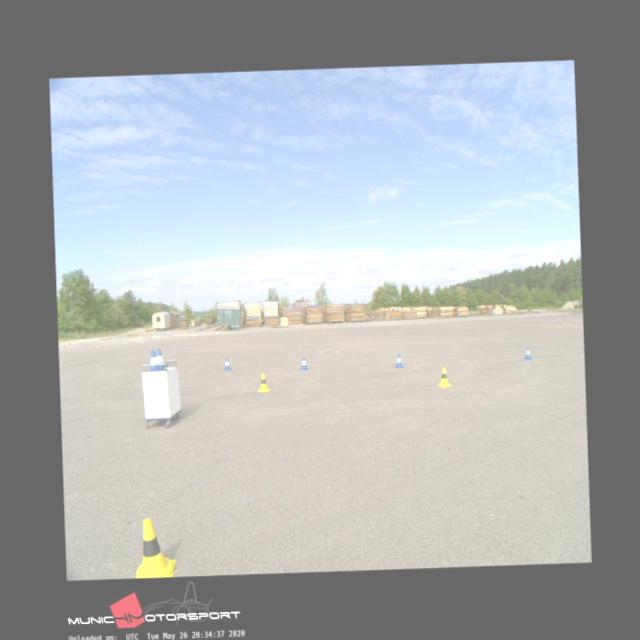blue_cone: (153, 348, 165, 371), (148, 350, 159, 370), (394, 353, 402, 367), (222, 358, 230, 370), (300, 356, 308, 368), (523, 347, 531, 359)
yellow_cone: (132, 518, 176, 578), (436, 366, 452, 386), (256, 372, 270, 391)
